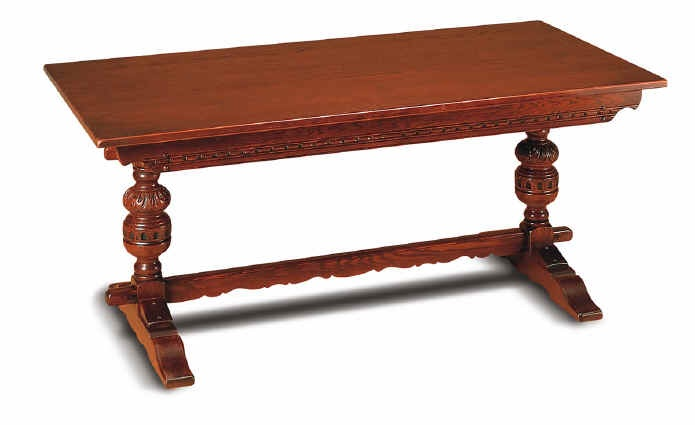obstacle: (45, 21, 665, 387)
